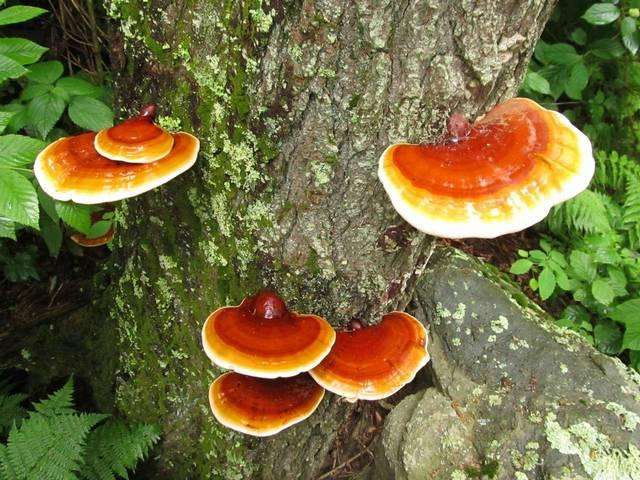poisonous_mushroom: (198, 279, 423, 440), (376, 95, 596, 240), (32, 106, 200, 205)
